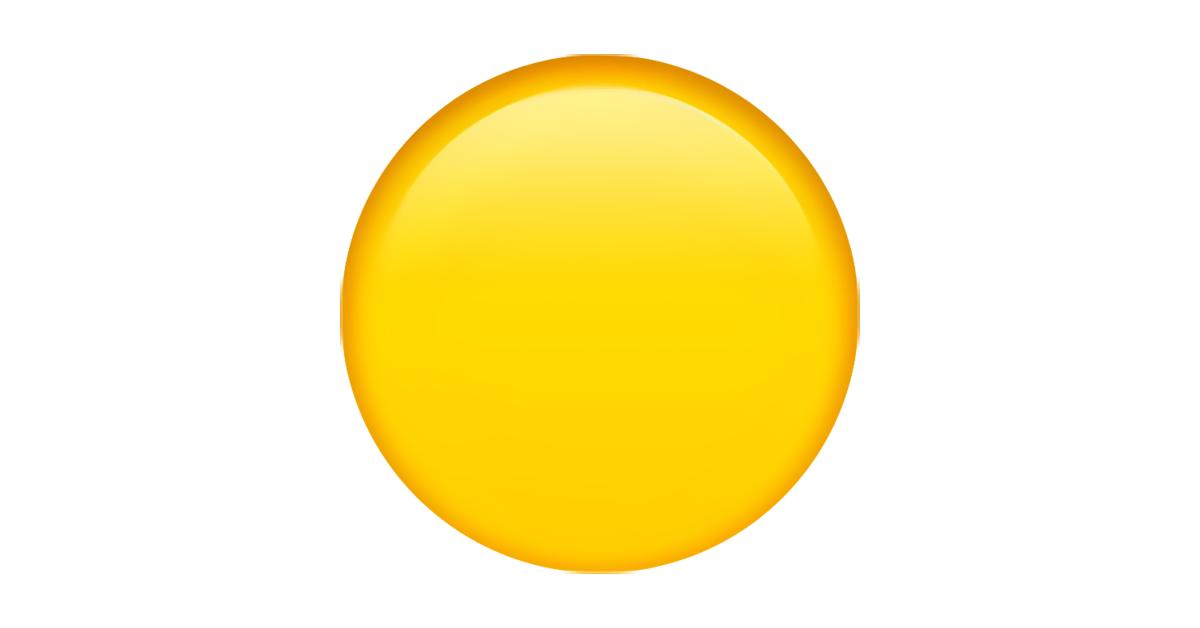yellow_circle: (335, 53, 862, 575)
